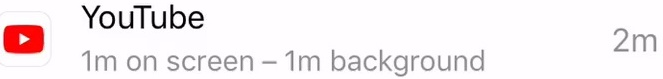name: (76, 1, 212, 39)
time: (282, 46, 327, 79), (77, 48, 121, 79)
